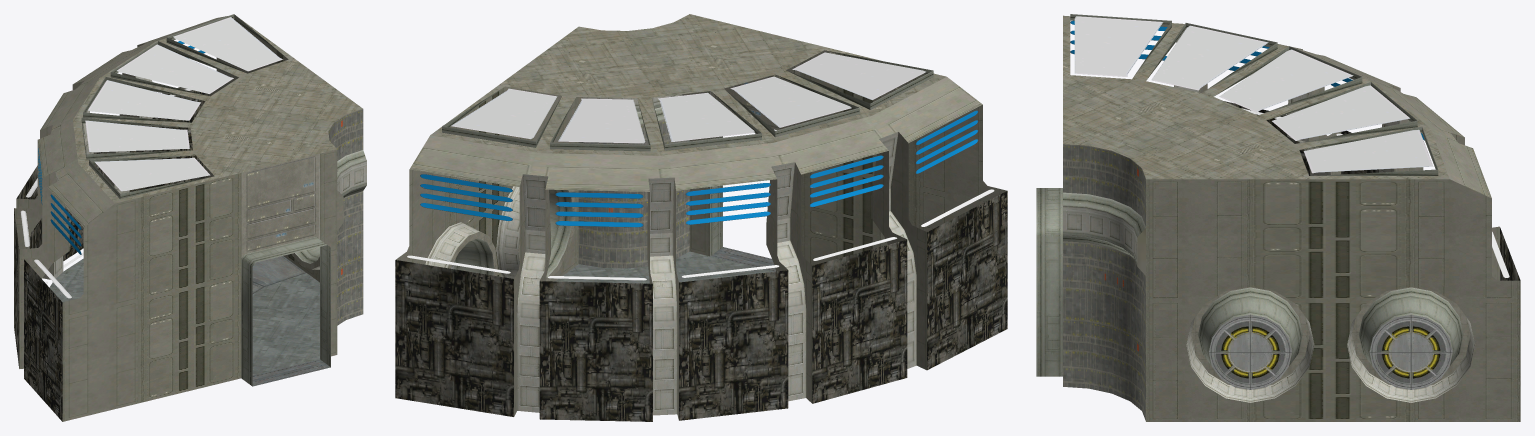
Rendered from thm_tato_fallen_star_r17_meeting01_mesh_r17.fbx.
3 views of the same model, side by side, from view 1: azimuth 30°, elevation 25°; view 2: azimuth 150°, elevation 25°; view 3: azimuth 270°, elevation 25° (orthographic). The views are drawn at different scales.
Visible parts, largest first — view 1: mesh_node; view 2: mesh_node; view 3: mesh_node.
Part boxes in pixels (bbox=[...]): mesh_node: bbox=[14, 14, 366, 421]; mesh_node: bbox=[395, 14, 1007, 421]; mesh_node: bbox=[1036, 14, 1520, 421].
Bounding box in the file's own units: 8.89 × 5.14 × 9.04.
